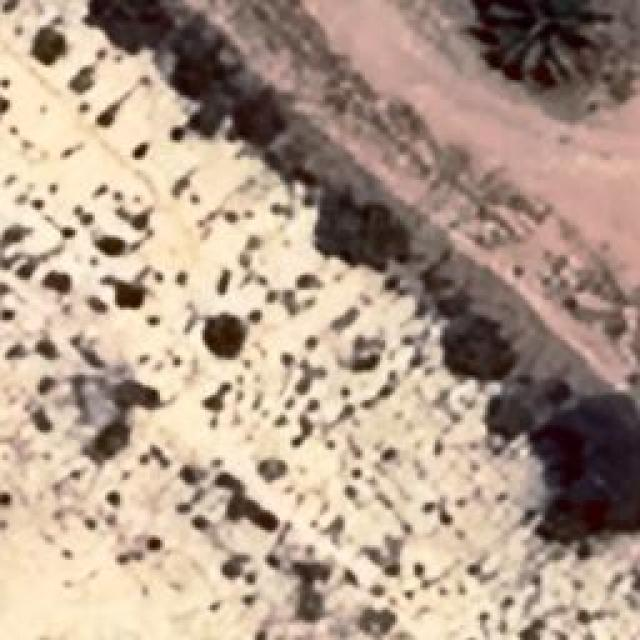PalmTree: (120, 39, 548, 78), (90, 28, 129, 56)
